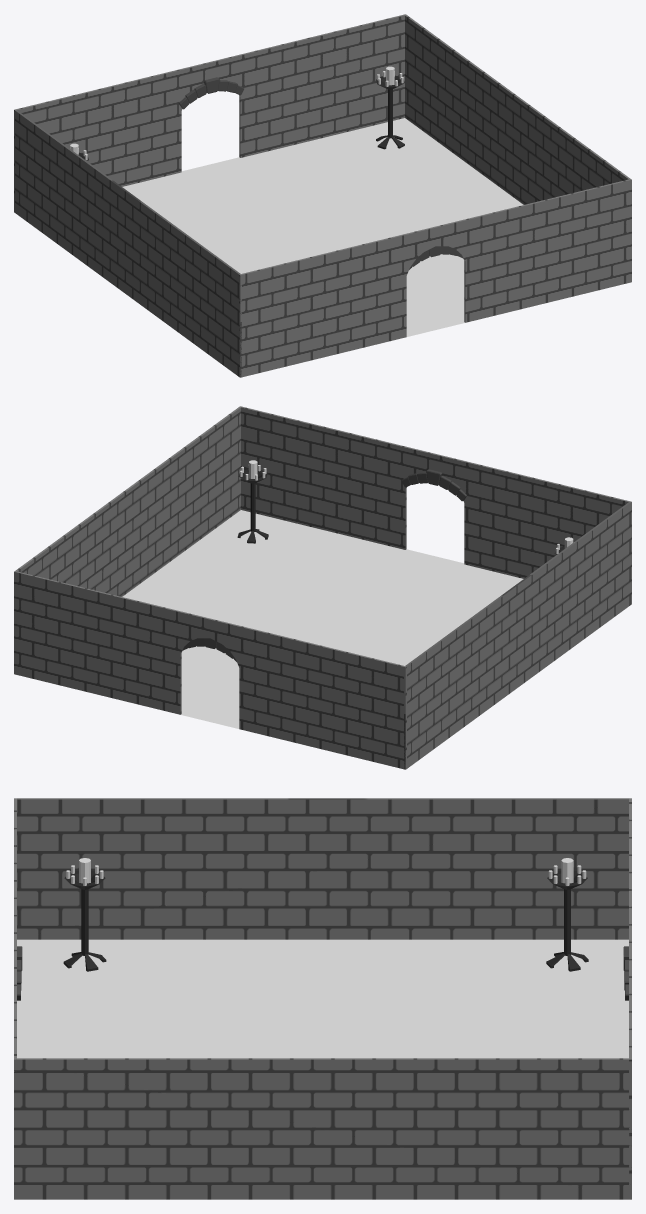
File: Crypts Room 5.fbx
The picture shows the model from 3 angles, top to bottom: view 1: azimuth 30°, elevation 25°; view 2: azimuth 150°, elevation 25°; view 3: azimuth 270°, elevation 25°; orthographic projection. The views are drawn at different scales.
Parts seen in each view (by area): view 1: Plane.090, Plane.093, Plane.092, Plane.094, Plane.091, Door Topping.013, Cylinder.037; view 2: Plane.090, Plane.092, Plane.093, Plane.094, Plane.091, Door Topping.011, Cylinder.033; view 3: Plane.091, Plane.094, Plane.090, Cylinder.035, Plane.092, Cylinder.039, Plane.093, Cylinder.038.
Boxes of the visible parts, x1,y1,x2,y2 form: Plane.090: (122,118,523,336); Plane.093: (239,179,631,377); Plane.092: (14,14,406,212); Plane.094: (14,109,241,377); Plane.091: (405,15,630,204); Door Topping.013: (178,77,244,109); Cylinder.037: (376,75,404,149); Plane.090: (122,510,523,728); Plane.092: (14,571,406,769); Plane.093: (239,406,630,578); Plane.094: (404,501,631,769); Plane.091: (15,406,240,596); Door Topping.011: (401,469,466,501); Cylinder.033: (237,469,268,543); Plane.091: (14,1058,631,1199); Plane.094: (17,798,629,939); Plane.090: (17,939,628,1058); Cylinder.035: (63,870,106,971); Plane.092: (629,798,631,1199); Cylinder.039: (546,870,588,971); Plane.093: (14,798,16,1078); Cylinder.038: (548,858,586,885).
Size of the model in its own units: 2000 by 500 by 2000.
